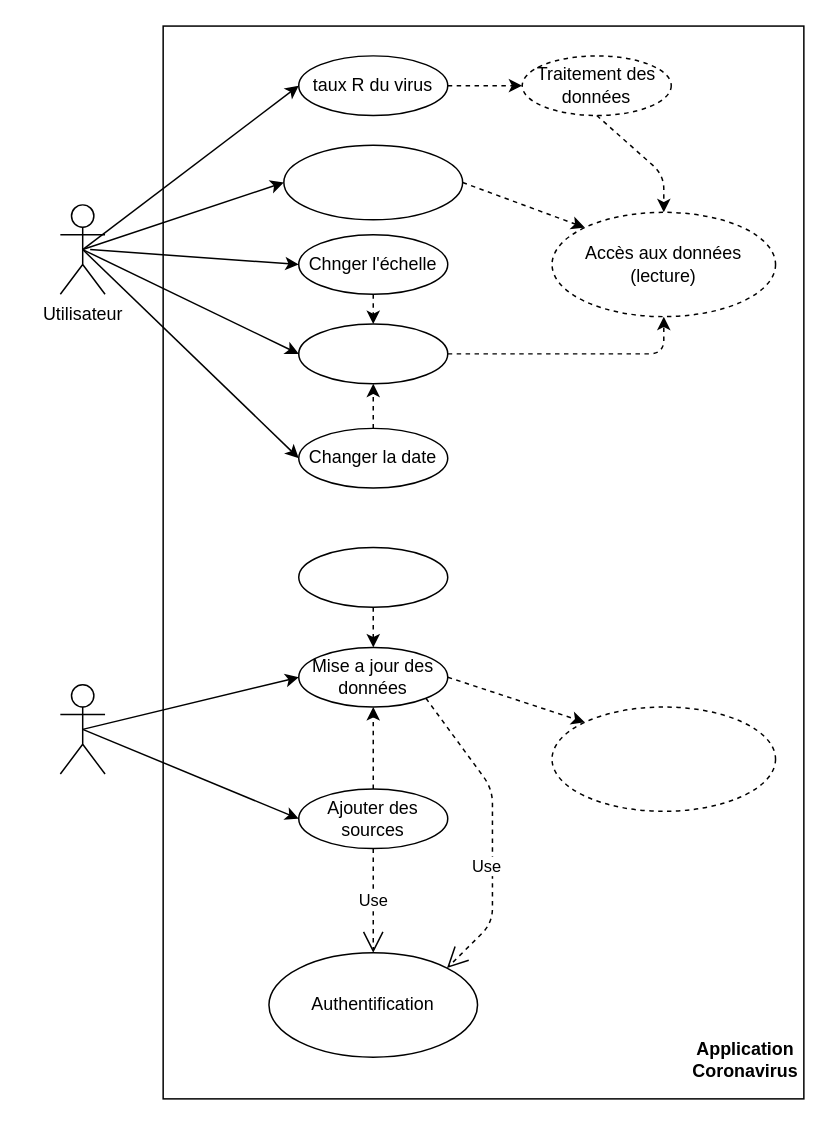
Some shapes in this 830 by 1125 pixel diagram are drawn without their labels. Each missing label, with the centre of its shape:
Accès aux données (écriture et lecture): (663,758)
Administrateur: (82,728)
Agrégateur automatique: (372,576)
Voir les données: (372,353)
Voir les sources (données brutes): (372,182)
